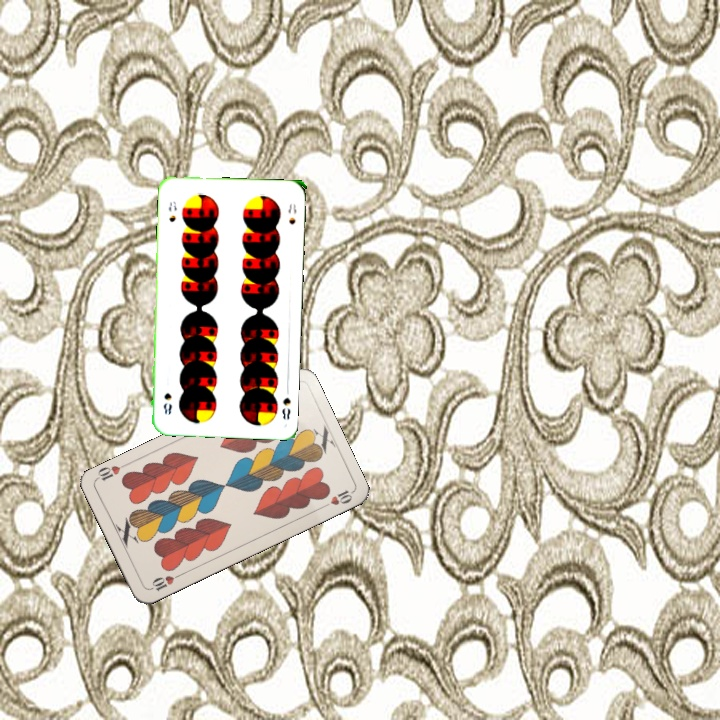H10: (146, 569, 184, 594)
S8: (278, 394, 293, 422), (165, 197, 179, 224)
